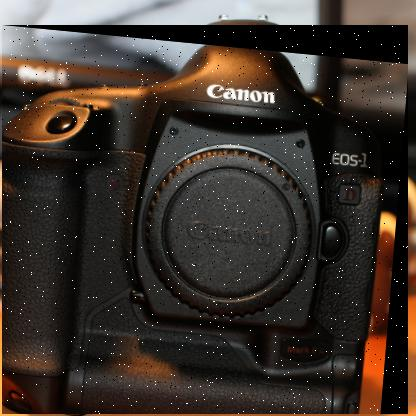Camera: (3, 26, 410, 416)
